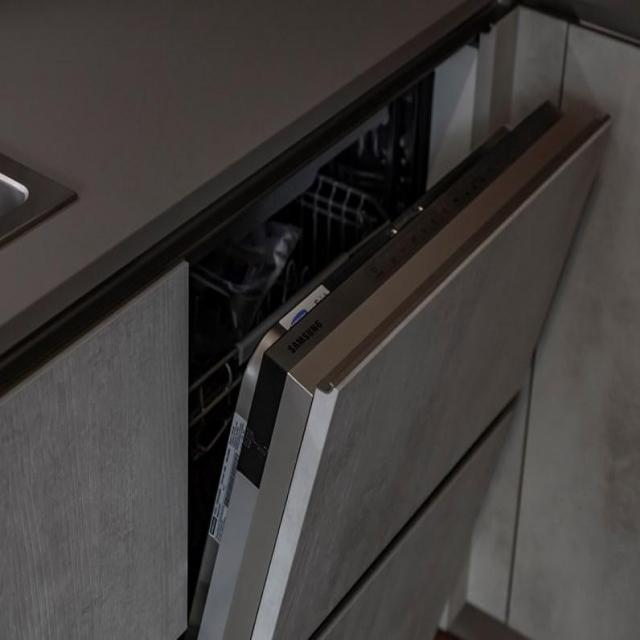dishwasher: (184, 33, 618, 640)
